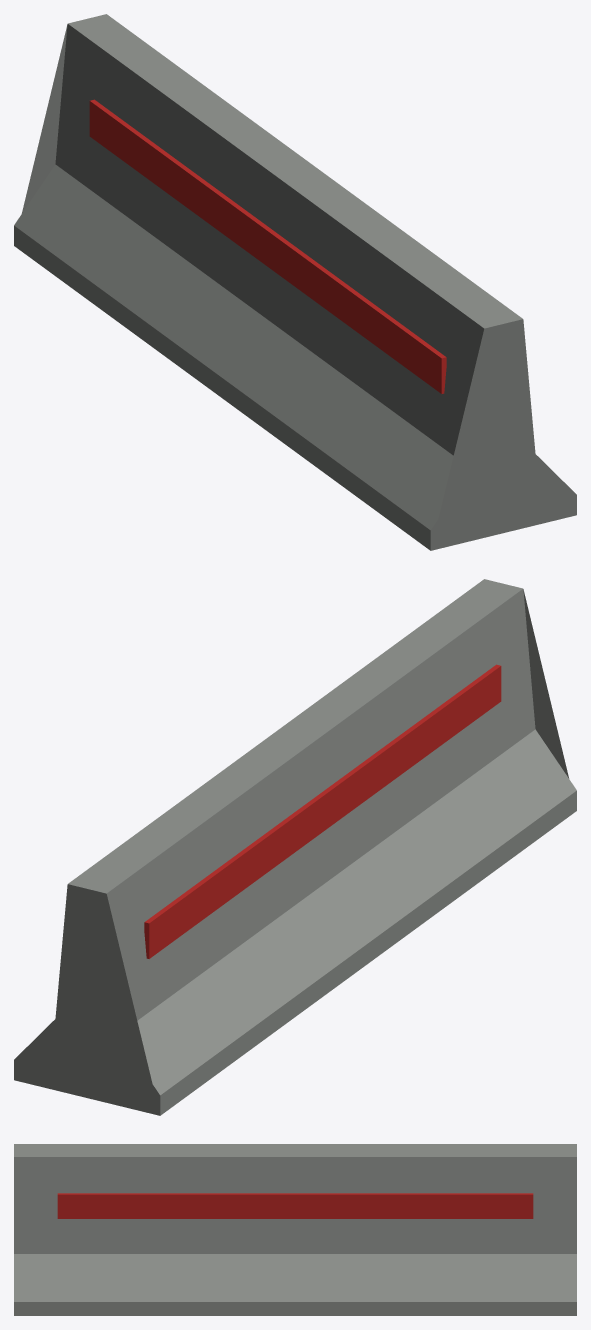
Rendered from rn_trk_jersey.glb.
3 renders of one model, top to bottom at view 1: azimuth 30°, elevation 25°; view 2: azimuth 150°, elevation 25°; view 3: azimuth 270°, elevation 25°, orthographic. The views are drawn at different scales.
Parts seen in each view (by area): view 1: rn_trk_jersey; view 2: rn_trk_jersey; view 3: rn_trk_jersey.
Boxes of the visible parts, box(x1,y1,x2,y2) form: rn_trk_jersey: box(14, 14, 576, 550); rn_trk_jersey: box(14, 579, 576, 1115); rn_trk_jersey: box(14, 1144, 576, 1315).
Size of the model in its own units: 0.5998 by 0.82 by 2.96.
